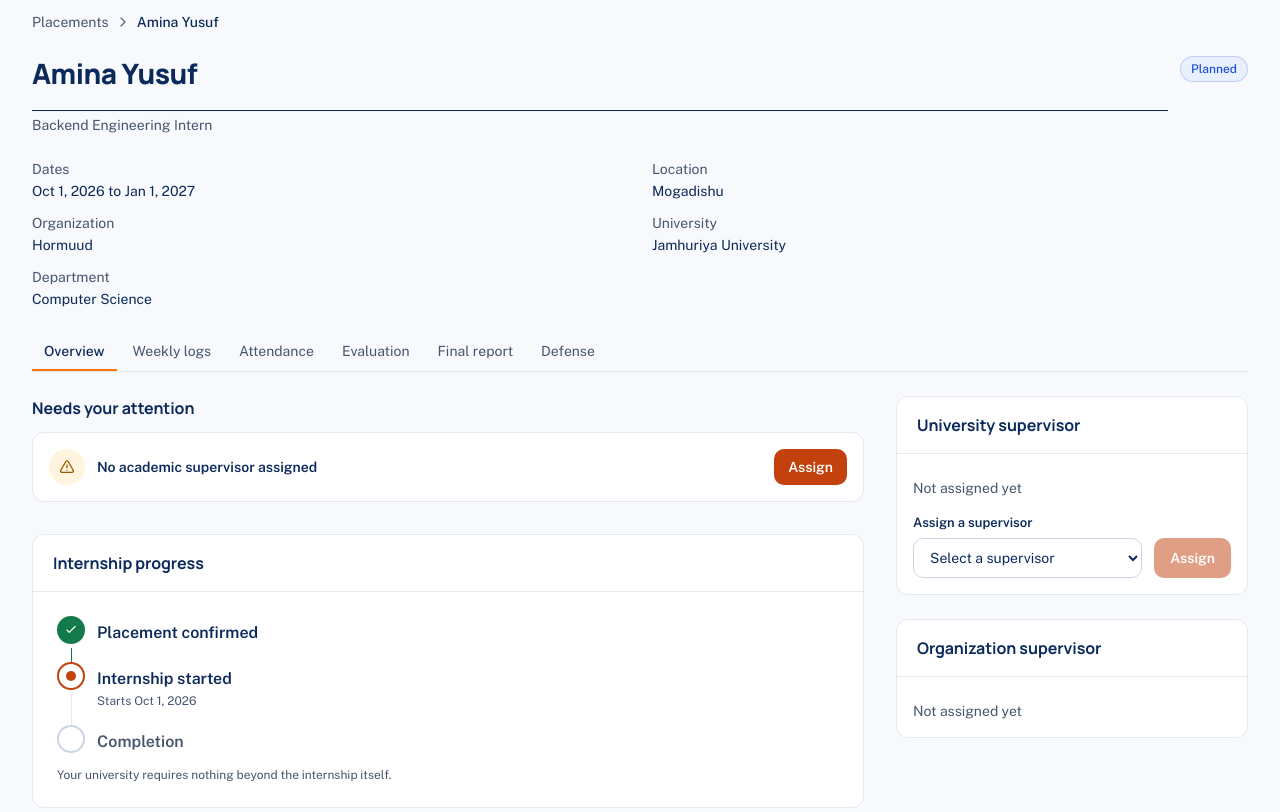
Test: PlacementDetailPage › surfaces a supervisor eligibility error using the stable code, not the message
expect the heading "Amina Yusuf" is shown: met, box [32,56,197,90]
Select "supervisor@uni.test" in the dropdown at x=1028, y=558, box [913,538,1142,578]
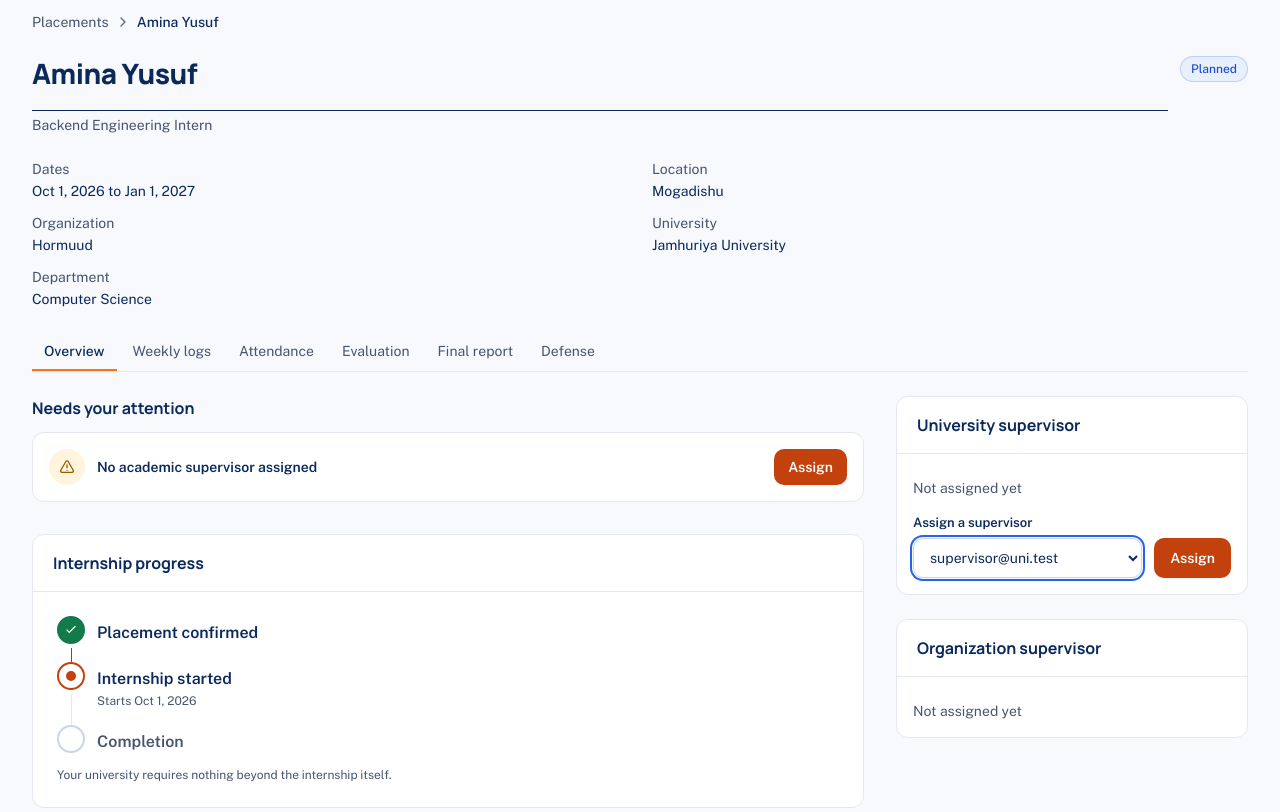
Click the button "Assign".
click(1193, 558)  # box [1154,538,1231,578]
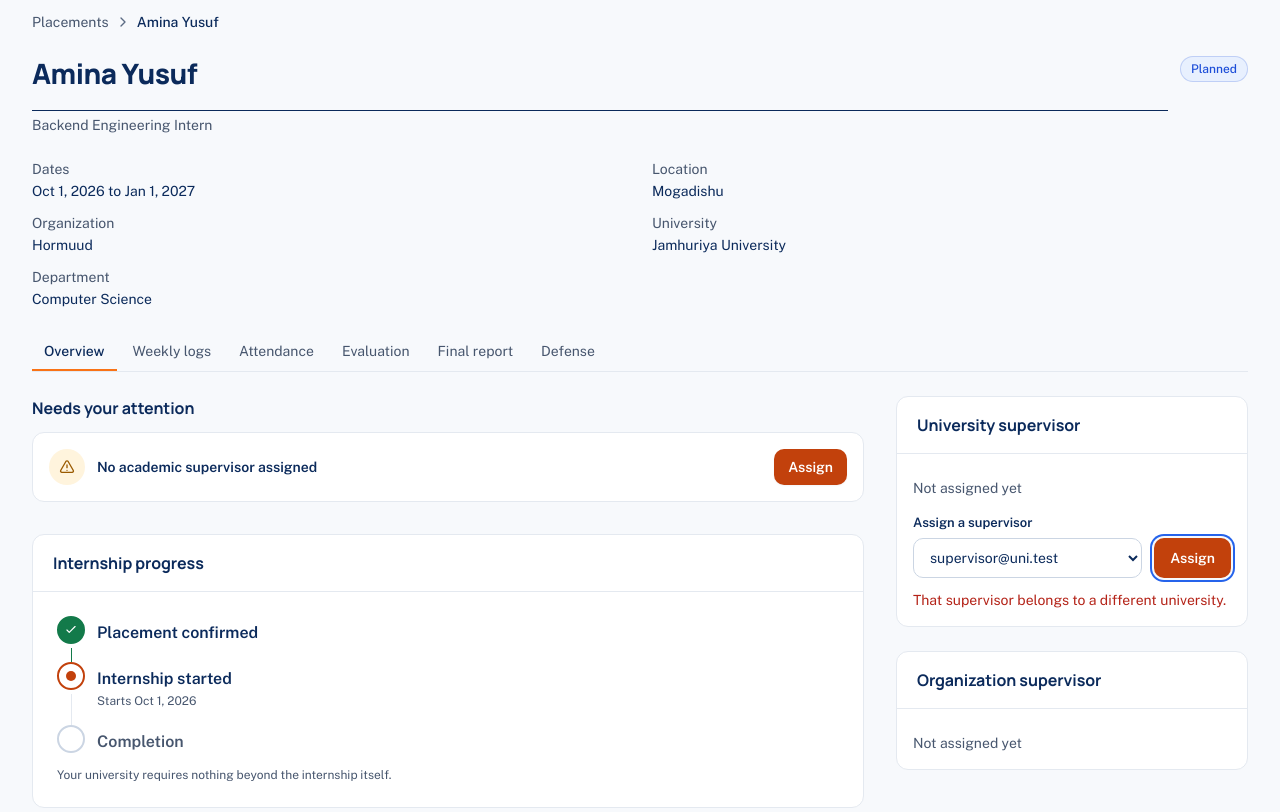
expect the message reads "That supervisor belongs to a different university.": met, box [913,592,1226,608]
